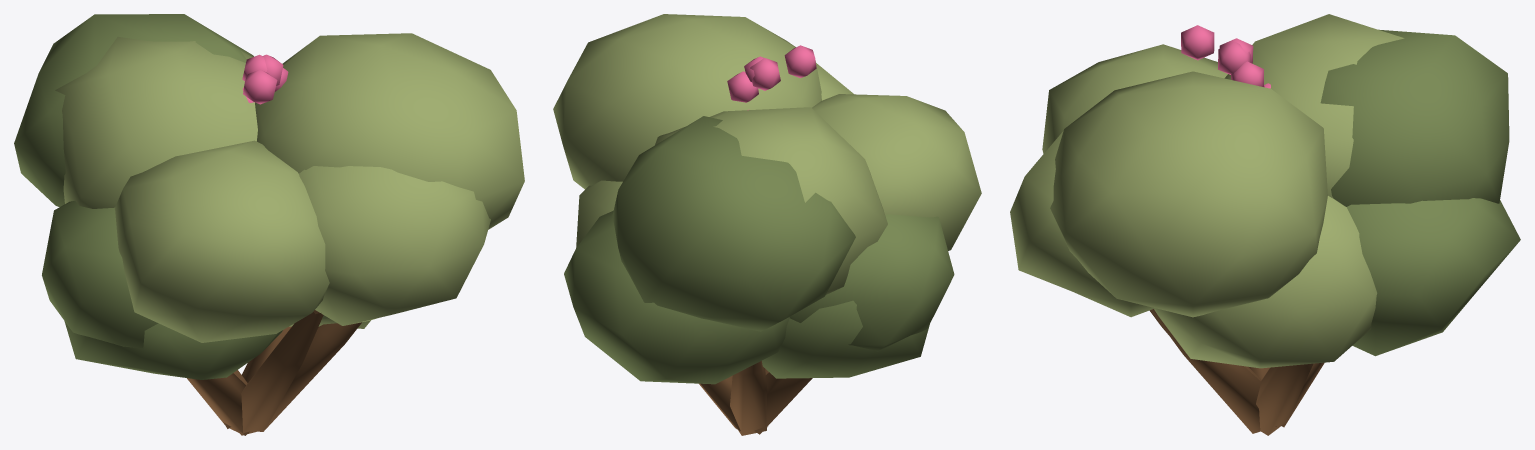
Rendered from SD_V02_SageShrub.fbx.
3 renders of one model, left to right at view 1: azimuth 30°, elevation 25°; view 2: azimuth 150°, elevation 25°; view 3: azimuth 270°, elevation 25°, orthographic. The views are drawn at different scales.
Visible parts, largest first — view 1: SD_V02_SageShrub; view 2: SD_V02_SageShrub; view 3: SD_V02_SageShrub.
Part boxes in pixels (box(x1,y1,x2,y2)): SD_V02_SageShrub: box(14, 14, 524, 435); SD_V02_SageShrub: box(553, 14, 981, 435); SD_V02_SageShrub: box(1010, 14, 1520, 435).
Size of the model in its own units: 62.22 by 55.83 by 65.64.
